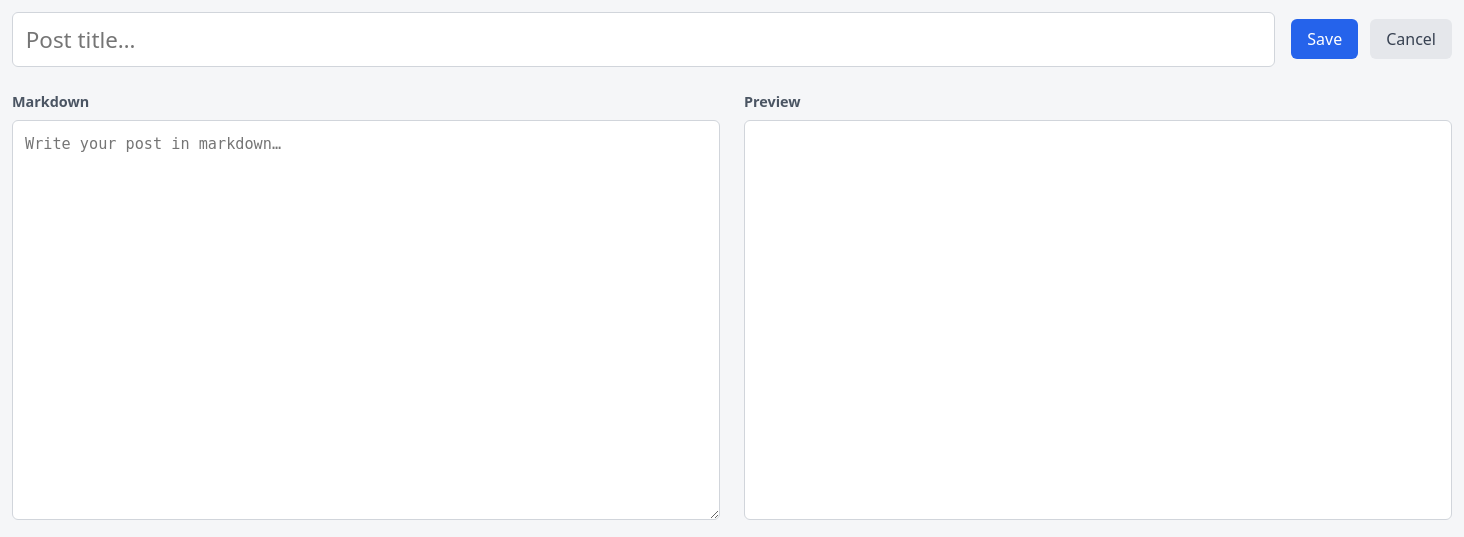
Scenario: MarkdownEditor › updates title and content on change
Step 1. Type "New Title" into the field with placeholder "Post title…" → (644, 39), box top-left (12, 12), bottom-right (1275, 67)
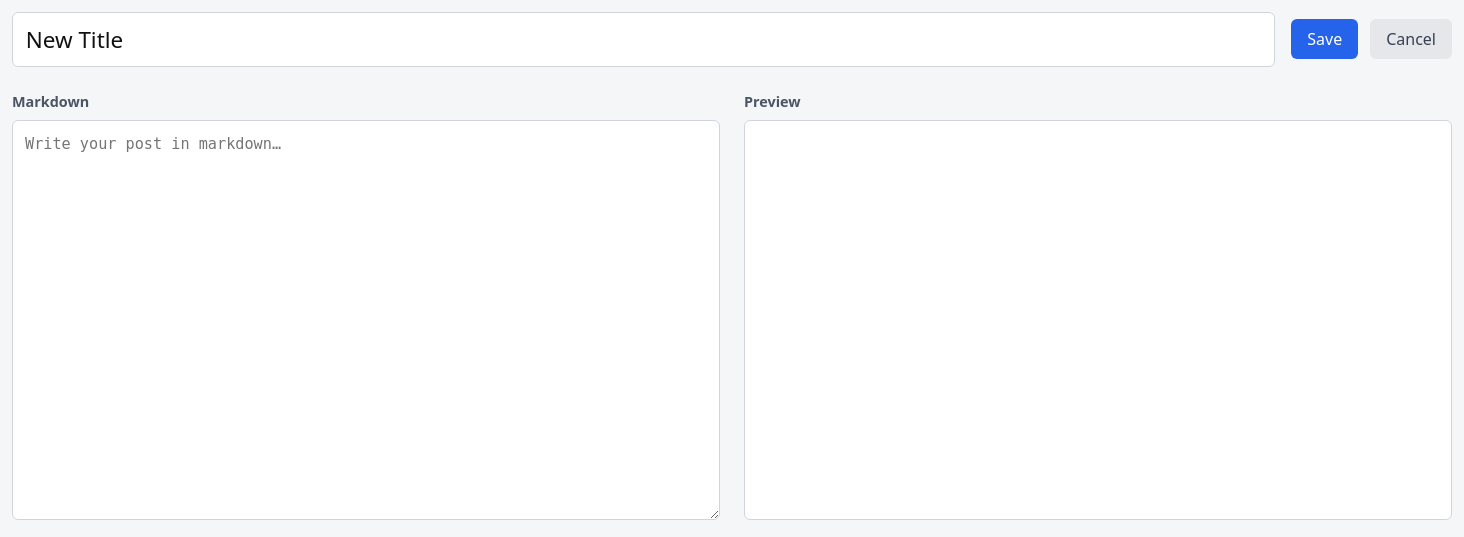
Step 2. Type "# Heading" into the text box with placeholder "Write your post in markdown…" → (366, 320), box top-left (12, 120), bottom-right (720, 520)
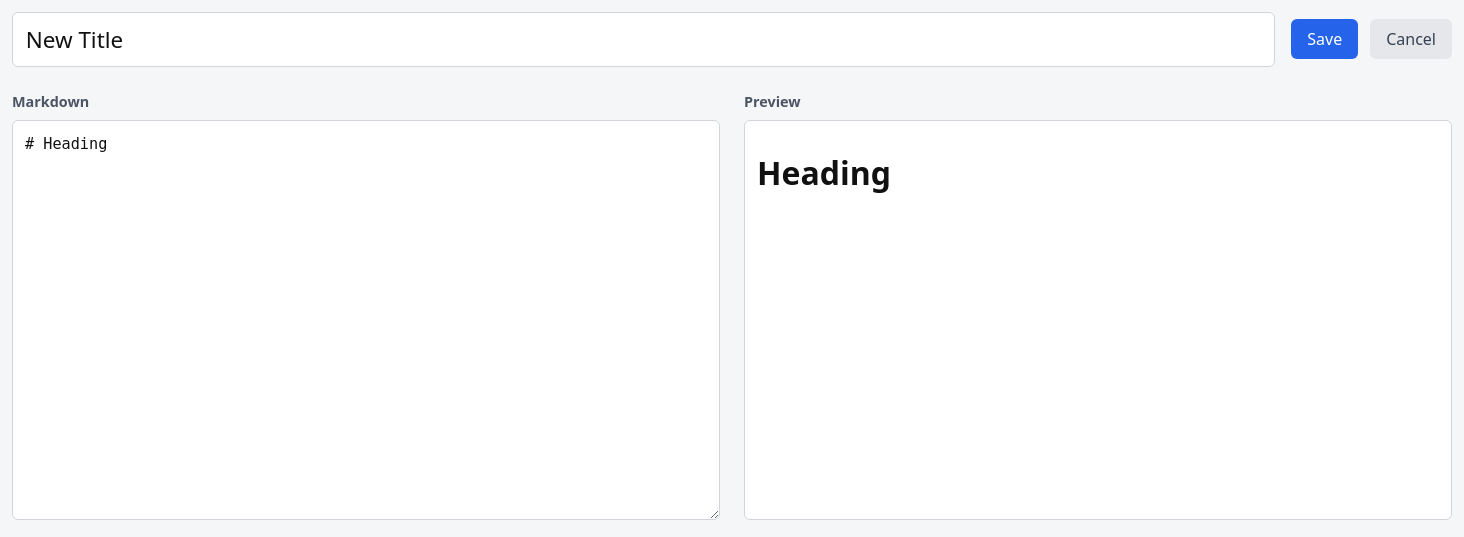
Check: the heading "Heading" is shown, box top-left (757, 151), bottom-right (891, 194)
